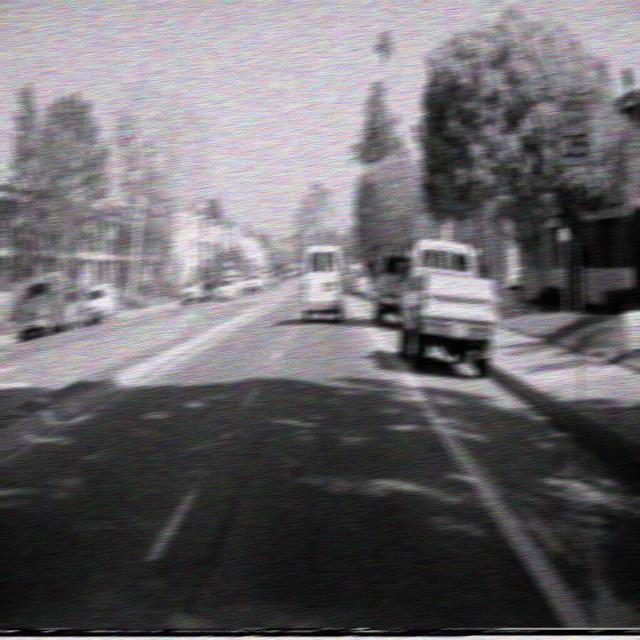speedLimit35: (554, 88, 592, 168)
